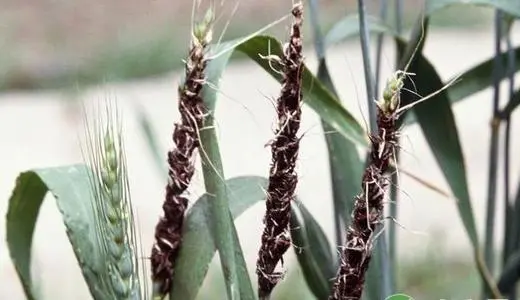Wheat Loose Smut: (137, 32, 212, 282), (336, 74, 412, 295), (253, 5, 312, 280)
